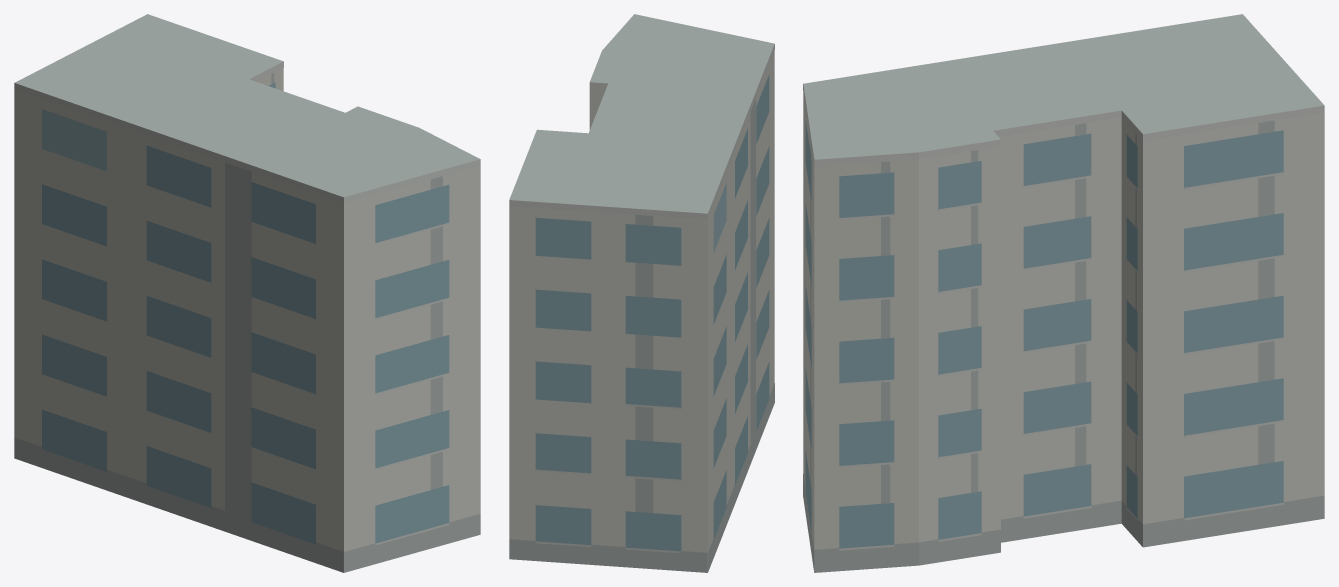
The model's file is survey-upis-32951209.glb.
3 views of the same model, side by side, from view 1: azimuth 30°, elevation 25°; view 2: azimuth 150°, elevation 25°; view 3: azimuth 270°, elevation 25° (orthographic). The views are drawn at different scales.
Parts seen in each view (by area): view 1: survey-upis-32951209.tmp; view 2: survey-upis-32951209.tmp; view 3: survey-upis-32951209.tmp.
Boxes of the visible parts, <box> form: survey-upis-32951209.tmp: <box>14,14,480,572</box>; survey-upis-32951209.tmp: <box>509,14,774,572</box>; survey-upis-32951209.tmp: <box>803,14,1324,572</box>.
Size of the model in its own units: 10.87 by 14.35 by 16.42.
